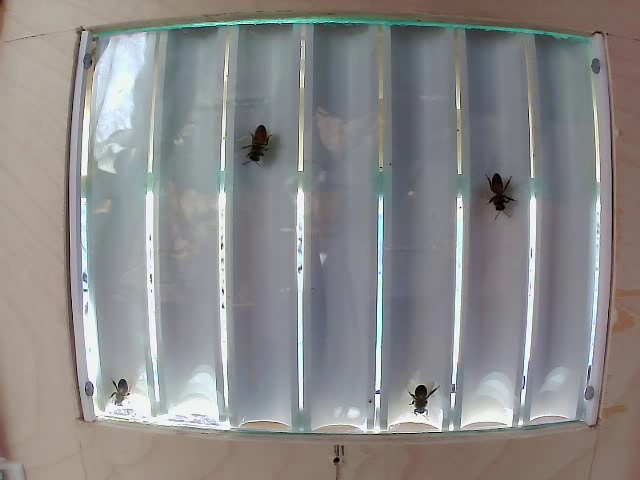bee: (470, 169, 518, 214), (398, 379, 441, 427), (234, 124, 272, 177)
